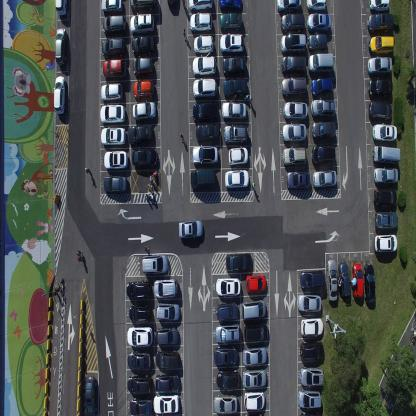car: (307, 50, 334, 75), (282, 144, 308, 169), (280, 75, 308, 98), (189, 166, 215, 190), (127, 122, 153, 146), (309, 97, 336, 120), (100, 104, 126, 127), (280, 32, 306, 55), (368, 34, 395, 56), (366, 12, 394, 33), (54, 26, 68, 68), (219, 32, 244, 55), (222, 124, 248, 146), (192, 144, 218, 166), (192, 100, 218, 122), (241, 298, 267, 320), (367, 77, 393, 99), (310, 120, 336, 142), (152, 394, 180, 414), (192, 56, 216, 79), (102, 13, 126, 36), (101, 126, 126, 148), (103, 149, 128, 171), (311, 144, 336, 166), (221, 102, 247, 123), (178, 219, 204, 240), (226, 252, 252, 273), (127, 325, 153, 346), (280, 54, 306, 75), (282, 100, 308, 121), (53, 74, 66, 115), (373, 144, 401, 163), (195, 122, 219, 144), (192, 78, 216, 100), (214, 345, 238, 367), (126, 278, 150, 300), (368, 100, 392, 122), (310, 76, 334, 98), (280, 12, 304, 34), (130, 12, 154, 34), (102, 57, 126, 79), (299, 367, 324, 388), (224, 168, 249, 189), (103, 174, 128, 195), (215, 276, 240, 297), (155, 301, 180, 322), (373, 121, 398, 142), (367, 55, 392, 76), (101, 37, 126, 58), (132, 147, 158, 167), (213, 394, 239, 414), (242, 346, 268, 366), (152, 278, 178, 298), (326, 258, 338, 301), (364, 262, 376, 305), (141, 254, 168, 273), (221, 57, 245, 78), (244, 321, 268, 342), (127, 373, 151, 394), (286, 170, 310, 191), (282, 122, 306, 143), (131, 35, 155, 56), (242, 368, 267, 388), (297, 292, 322, 312), (132, 101, 157, 121), (300, 269, 325, 289), (215, 323, 240, 343), (155, 372, 180, 392), (127, 350, 152, 370), (312, 168, 337, 188), (101, 82, 123, 104), (245, 272, 267, 294), (216, 300, 238, 322), (190, 12, 212, 34), (300, 341, 323, 362), (375, 210, 398, 231), (351, 261, 364, 298), (297, 390, 321, 410), (84, 376, 96, 416), (216, 368, 240, 388), (307, 12, 331, 32), (219, 11, 243, 31), (306, 32, 327, 54), (338, 260, 350, 298), (155, 327, 179, 346), (154, 350, 178, 369), (374, 233, 398, 252), (373, 188, 397, 207), (222, 80, 247, 98), (193, 34, 214, 55), (132, 56, 153, 77), (300, 317, 322, 337), (132, 80, 154, 100), (128, 304, 152, 322), (374, 166, 398, 184), (227, 146, 248, 166), (244, 391, 266, 410), (129, 397, 152, 415), (276, 0, 302, 15), (188, 0, 214, 14), (100, 0, 123, 15), (129, 0, 157, 11), (369, 0, 390, 13), (218, 0, 242, 11), (54, 0, 68, 18), (306, 0, 326, 12), (298, 410, 320, 415), (167, 0, 178, 10)
